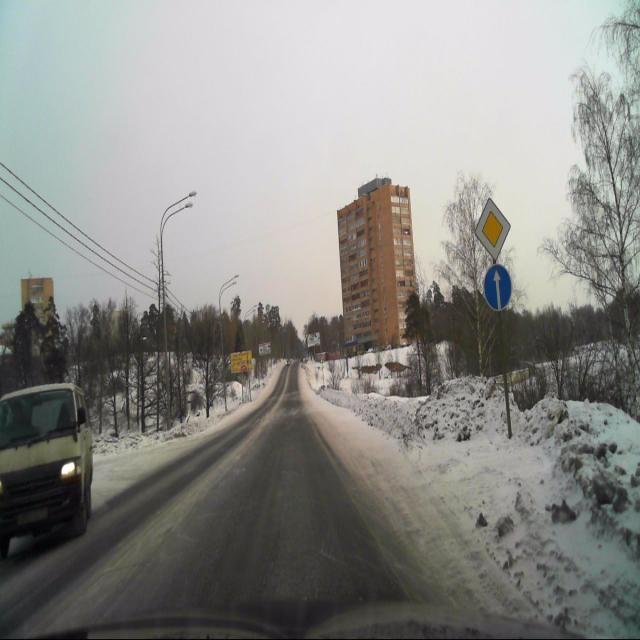object: (496, 308, 512, 443)
road sign: (475, 198, 510, 260)
